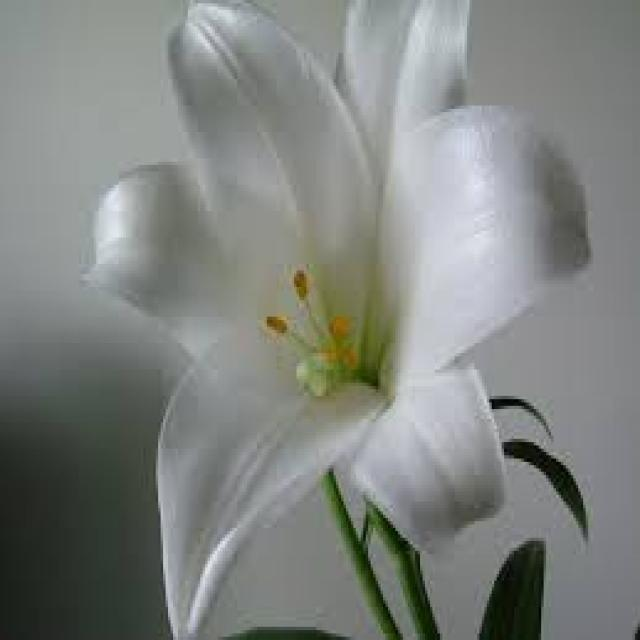lily: (77, 0, 586, 614)
